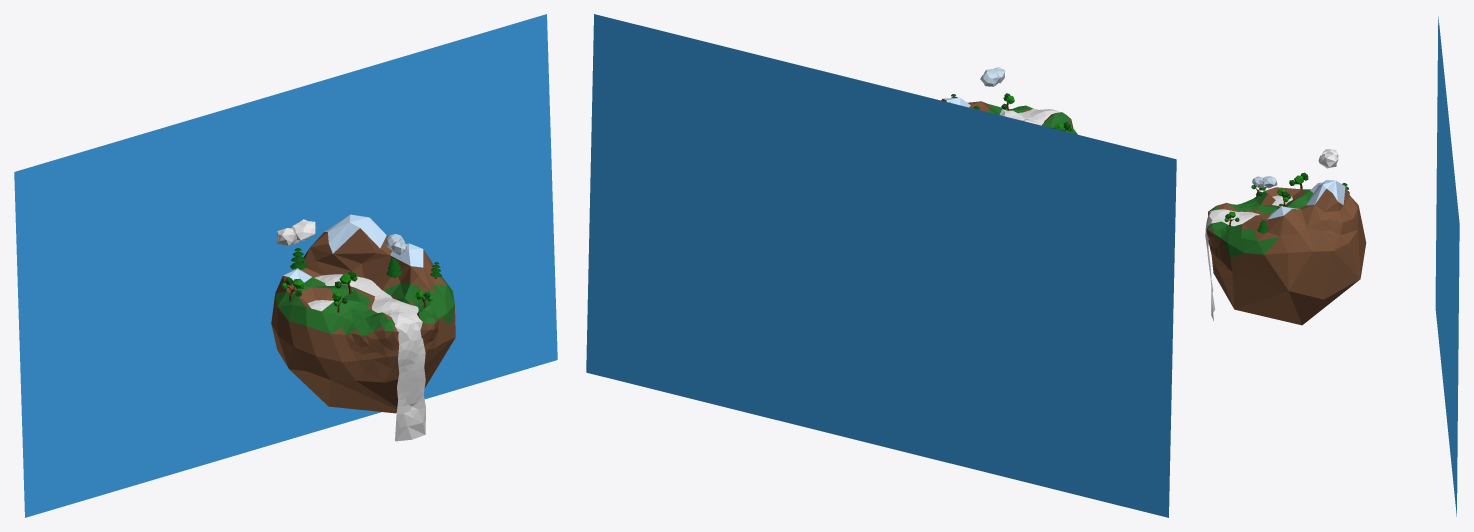
File: world.fbx
The picture shows the model from 3 angles, left to right: view 1: azimuth 30°, elevation 25°; view 2: azimuth 150°, elevation 25°; view 3: azimuth 270°, elevation 25°; orthographic projection. The views are drawn at different scales.
Parts seen in each view (by area): view 1: Sky, Island, Water, Cloud; view 2: Sky, Island; view 3: Island, Sky, Water, Cloud.
Part boxes in pixels (x1=…): Sky: x1=14, y1=14, x2=557, y2=517; Island: x1=271, y1=214, x2=455, y2=413; Water: x1=307, y1=274, x2=425, y2=441; Cloud: x1=276, y1=219, x2=315, y2=245; Sky: x1=586, y1=14, x2=1176, y2=517; Island: x1=941, y1=97, x2=1077, y2=134; Island: x1=1206, y1=180, x2=1366, y2=325; Sky: x1=1435, y1=16, x2=1459, y2=516; Water: x1=1205, y1=195, x2=1292, y2=320; Cloud: x1=1318, y1=149, x2=1338, y2=168.
Size of the model in its own units: 6871 by 4292 by 3260.
